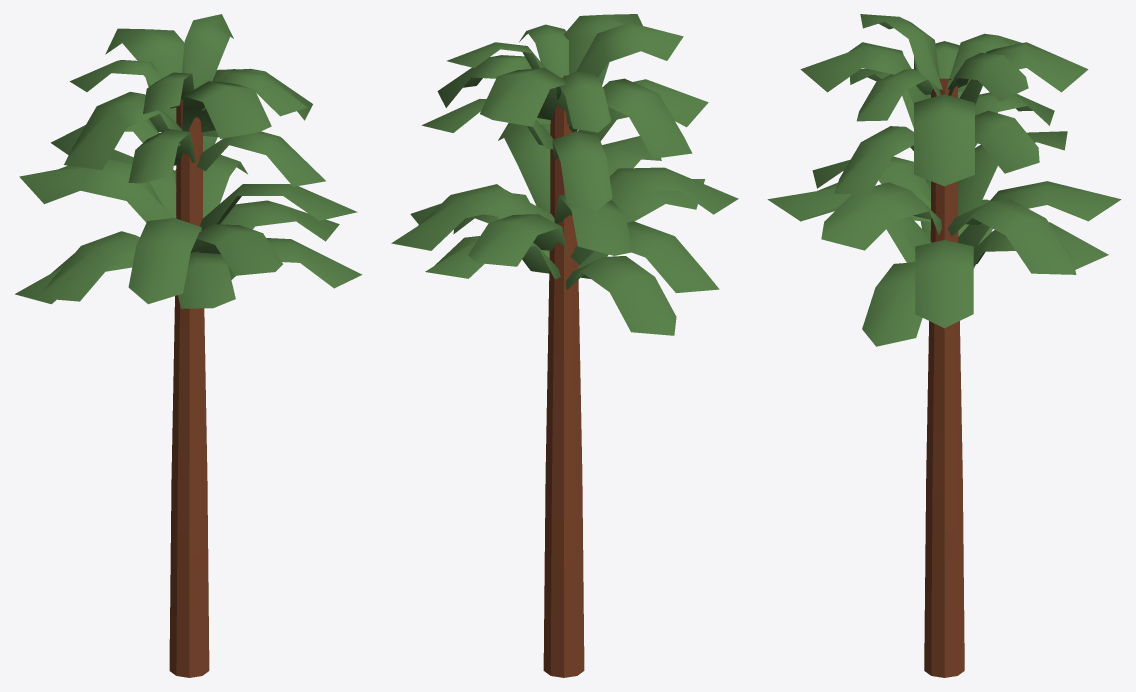
Rendered from DatePalm.fbx.
The picture shows the model from 3 angles, left to right: view 1: azimuth 30°, elevation 25°; view 2: azimuth 150°, elevation 25°; view 3: azimuth 270°, elevation 25°; orthographic projection. The views are drawn at different scales.
Parts seen in each view (by area): view 1: pPlane92; view 2: pPlane92; view 3: pPlane92.
Boxes of the visible parts, x1,y1,x2,y2 form: pPlane92: (15,14,362,677); pPlane92: (391,14,738,677); pPlane92: (767,14,1121,677).
Bounding box in the file's own units: 436 × 853 × 435.
